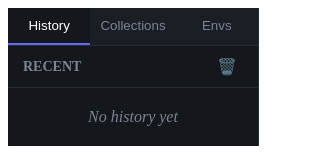
Test: FinalGapCoverage › Sidebar › should alert if collection import fails (invalid JSON)
Click the button "Collections": (133, 26) [90,8,176,45]
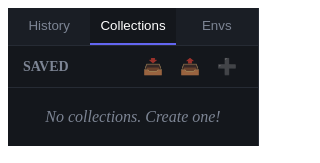
Expected: the element showing "📥 📤 ➕" is shown, [137,56,243,77]
